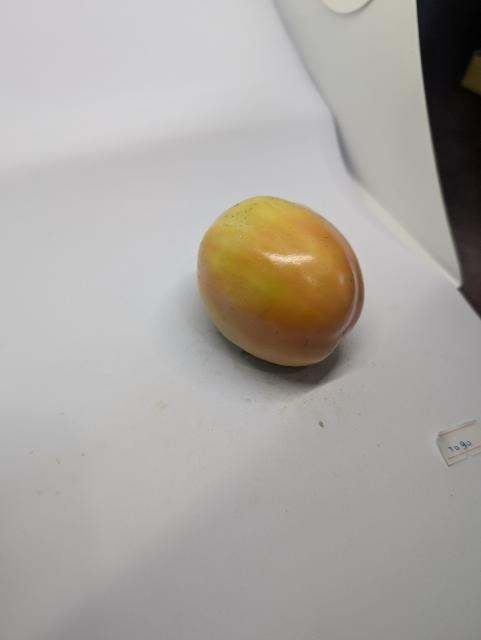turning: (187, 180, 377, 376)
